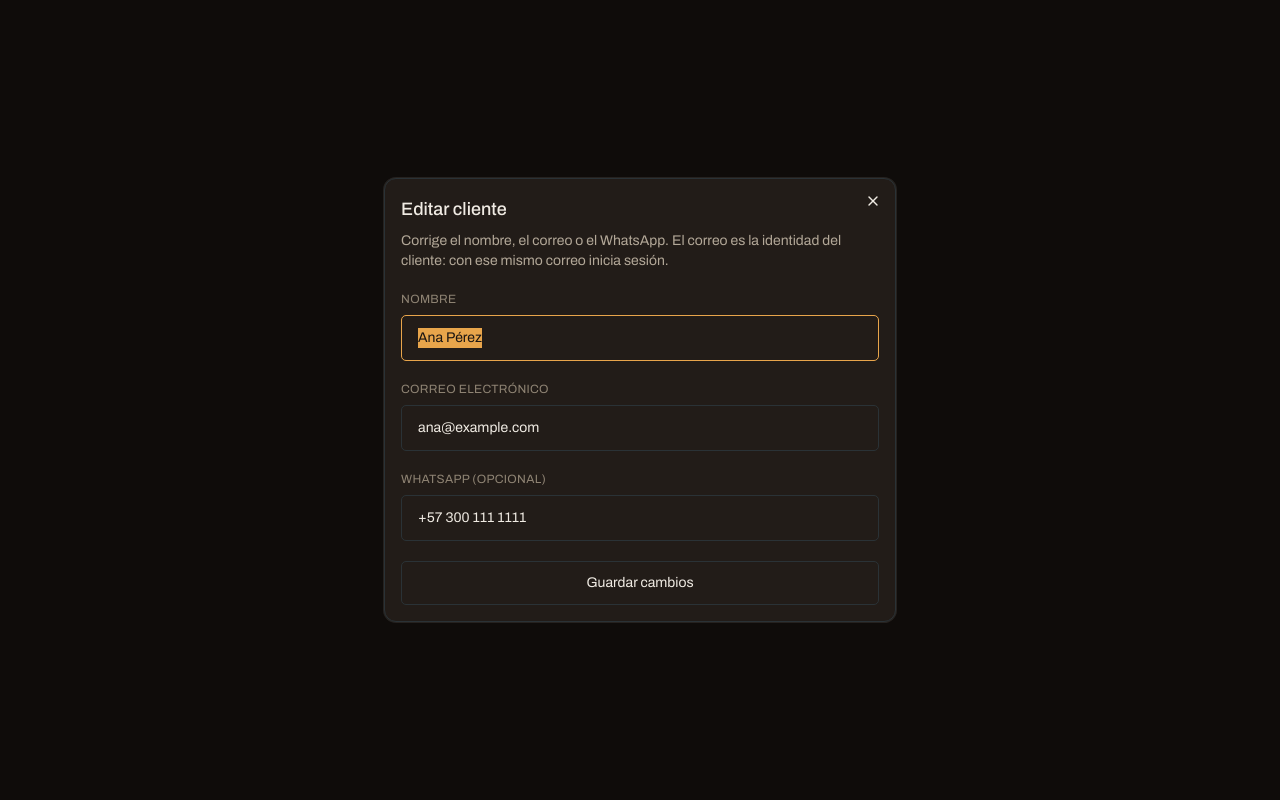
Test case: EditClientDialog › shows the action's error and keeps what was typed
Click the button "Guardar cambios" at (640, 583), box [401,561,879,605]
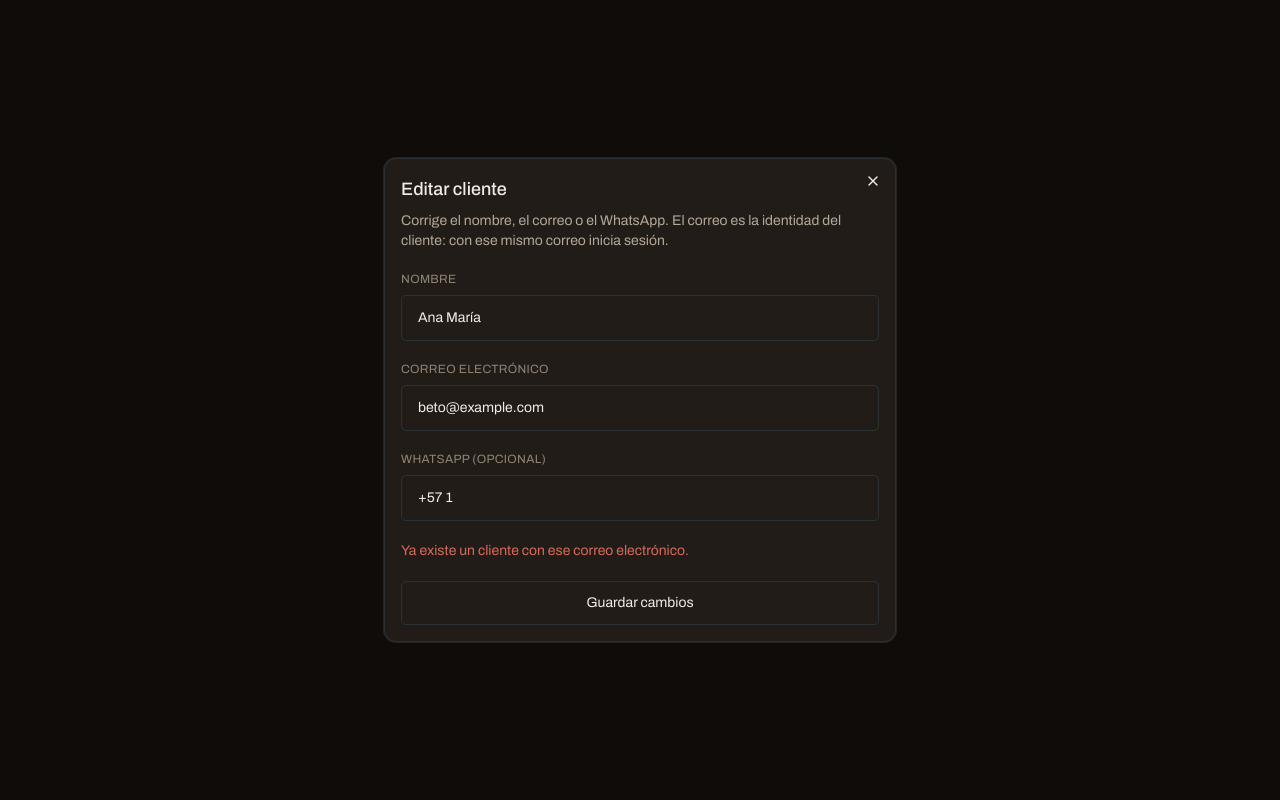
Check: the message reads "Ya existe un cliente con ese correo electrónico.", box [401,543,689,558]
Check: the field labelled "Nombre" holds "Ana María", box [401,295,879,341]
Check: the field labelled "Correo electrónico" holds "beto@example.com", box [401,385,879,431]
